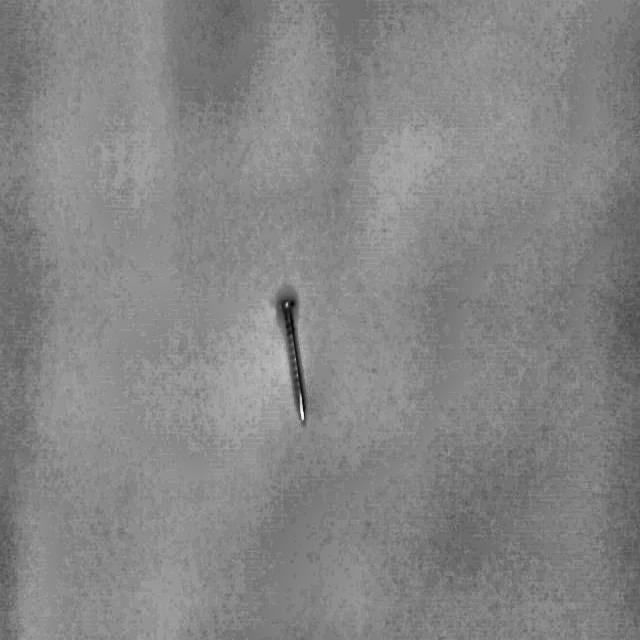Sheet metal screw: (279, 297, 306, 423)
